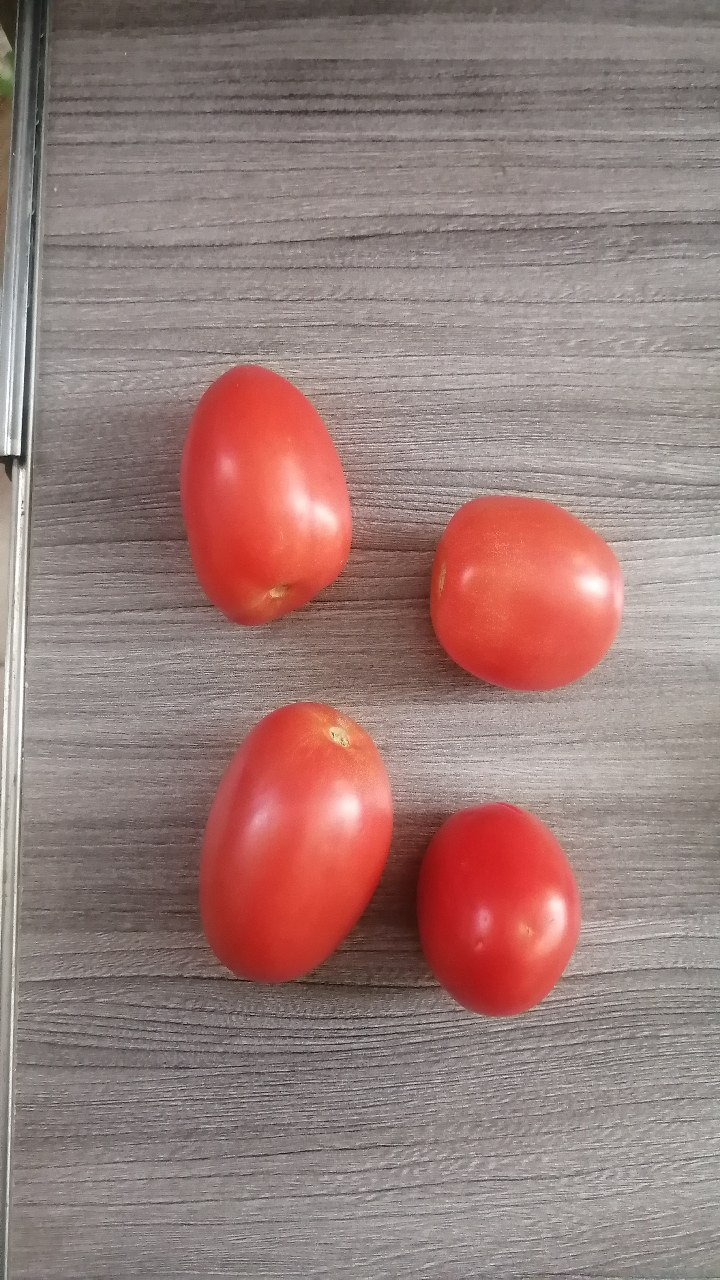tomateRojo: (161, 689, 409, 1005), (160, 343, 374, 659), (414, 463, 646, 712), (408, 780, 624, 1042)
